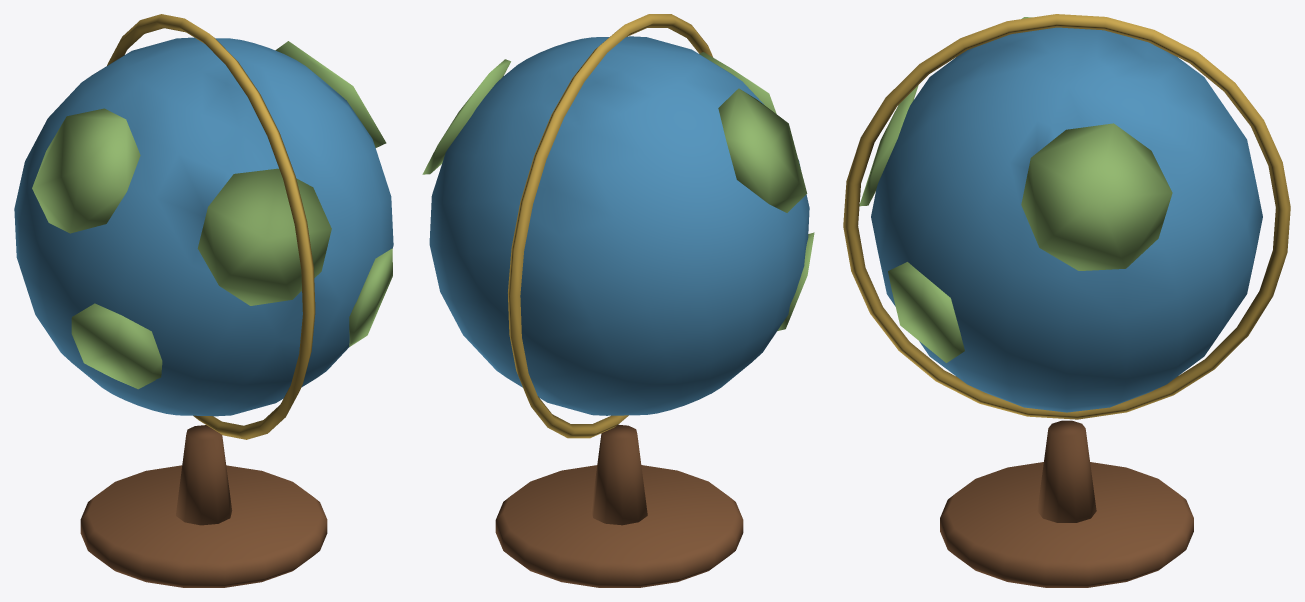
File: globe.glb
3 views of the same model, side by side, from view 1: azimuth 30°, elevation 25°; view 2: azimuth 150°, elevation 25°; view 3: azimuth 270°, elevation 25° (orthographic). The views are drawn at different scales.
Parts seen in each view (by area): view 1: globe; view 2: globe; view 3: globe.
Boxes of the visible parts, <box> form: globe: <box>14,14,393,587</box>; globe: <box>422,14,814,587</box>; globe: <box>843,14,1290,587</box>.
Size of the model in its own units: 0.2118 by 0.3099 by 0.2397.
